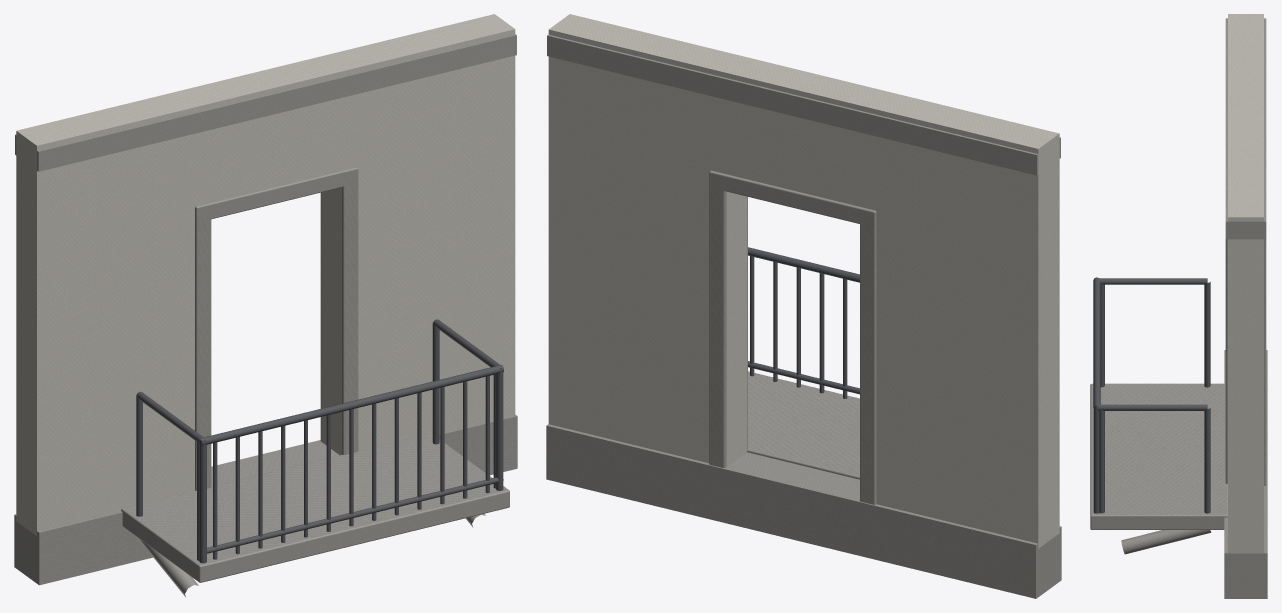
The model's file is tactical-shooter-hill-town-balcony-bay-52db6fc6__27517.glb.
3 renders of one model, left to right at view 1: azimuth 30°, elevation 25°; view 2: azimuth 150°, elevation 25°; view 3: azimuth 270°, elevation 25°, orthographic. The views are drawn at different scales.
Parts seen in each view (by area): view 1: balcony-bay; view 2: balcony-bay; view 3: balcony-bay.
Part boxes in pixels (x1=…): balcony-bay: x1=14, y1=14, x2=517, y2=597; balcony-bay: x1=546, y1=14, x2=1061, y2=598; balcony-bay: x1=1090, y1=14, x2=1267, y2=598.
Bounding box in the file's own units: 4 × 3.5 × 1.47.
Materials: 3 (2 with a texture image).
